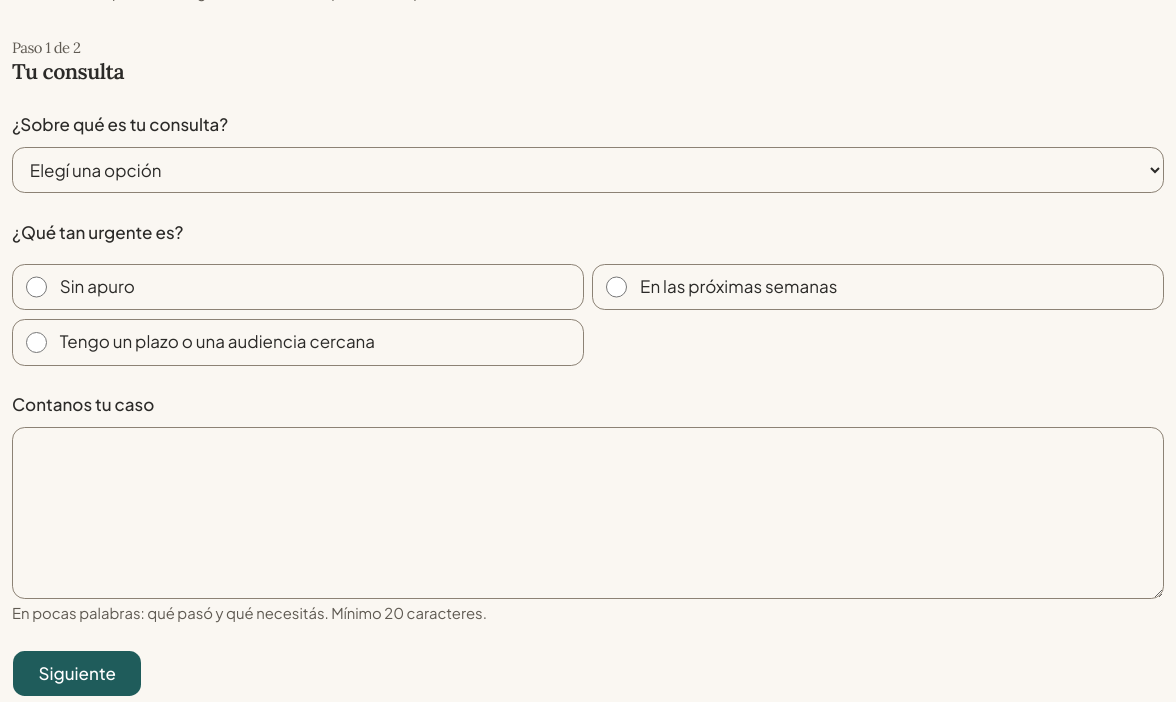
Test: InquiryForm (US-03) › steps (CA1) › does not advance with empty fields and shows every error of step 1 (CA2)
Click the button "Siguiente" at point(77, 674), box [12,650,142,697]
(page scrolled)
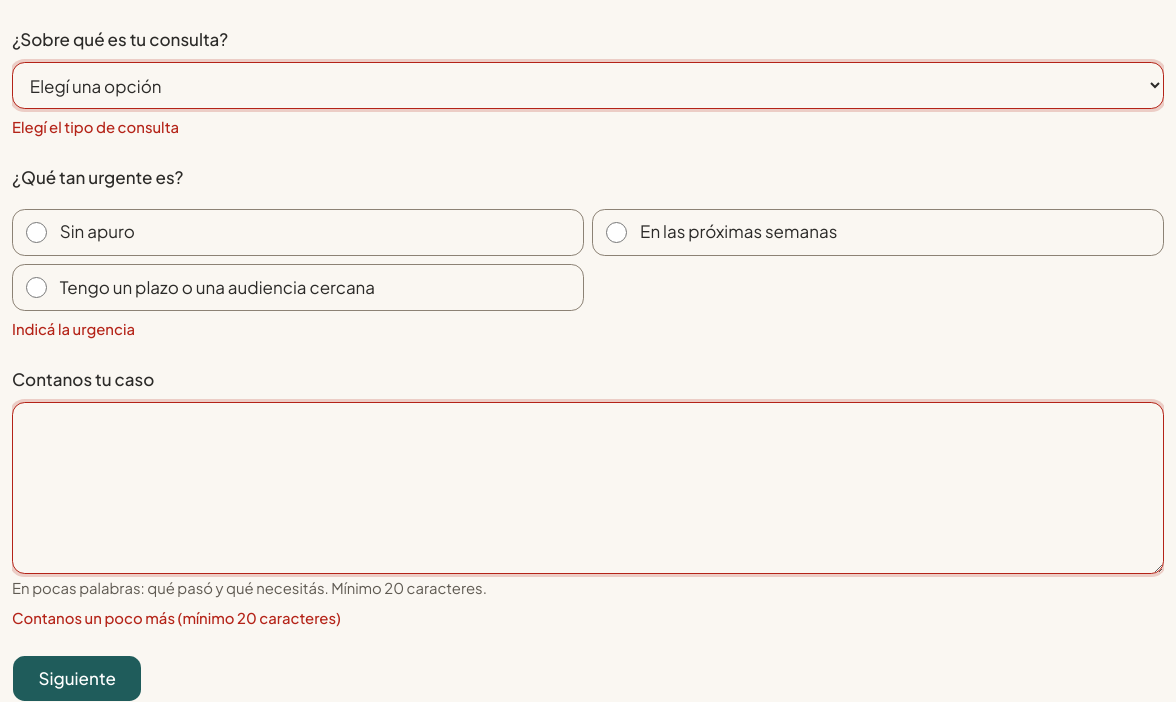
Check: the text box labelled "Contanos tu caso" is marked as invalid, box [12,402,1164,574]
